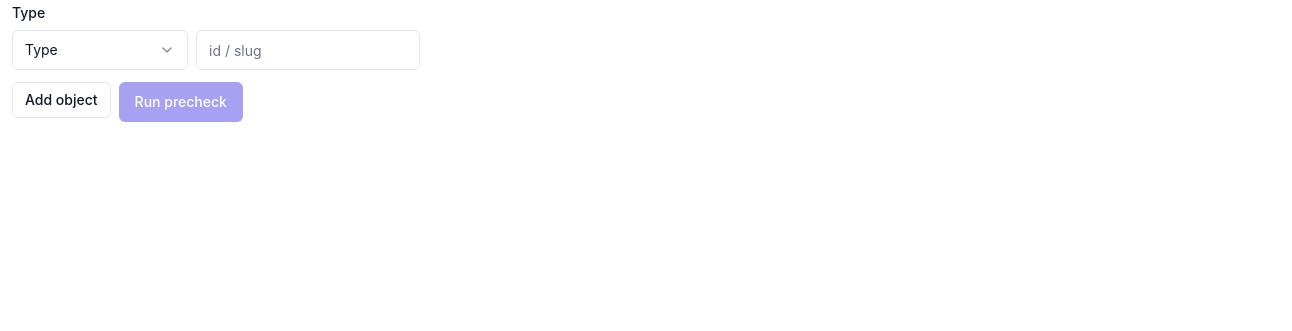
Test: PromotionPrecheckPanel › sends the selected objects and renders the risk summary
Click the dropdown named "Promotion object 1 type" at (100, 50), box [12,30,188,70]
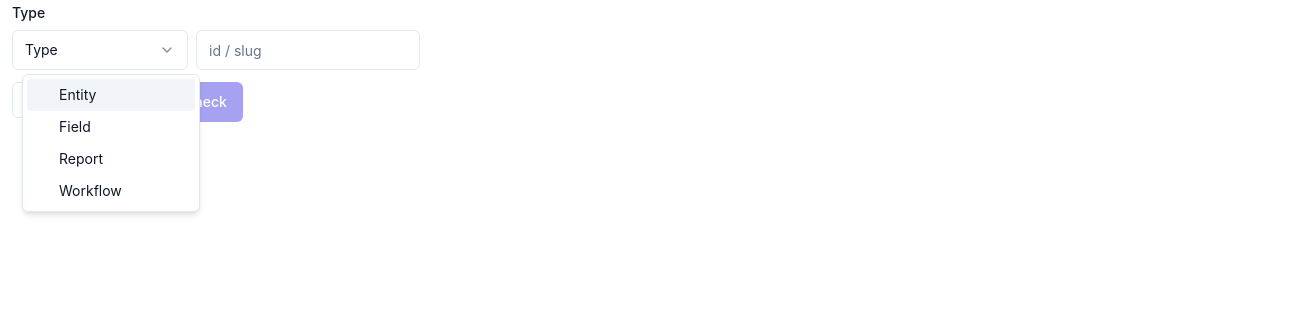
Click the option "Entity" at (111, 95), box [27,79,195,111]
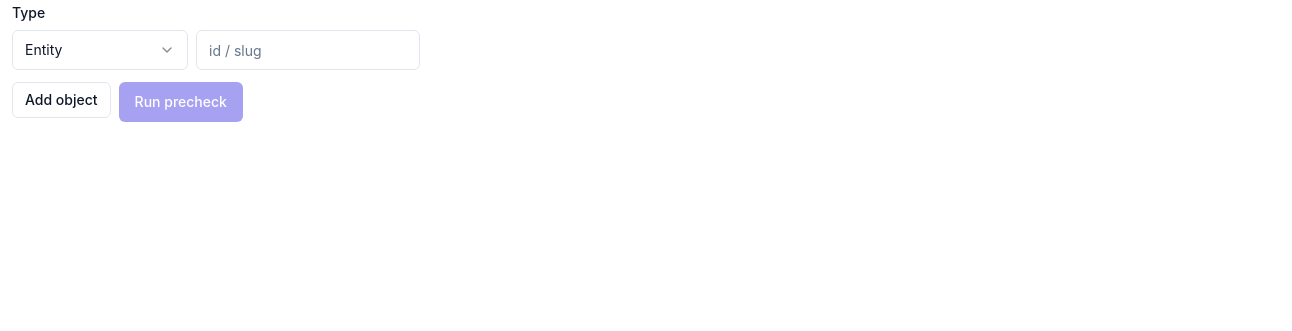
Type "lead" into the field named "Promotion object 1 id" at (308, 50), box [196,30,420,70]
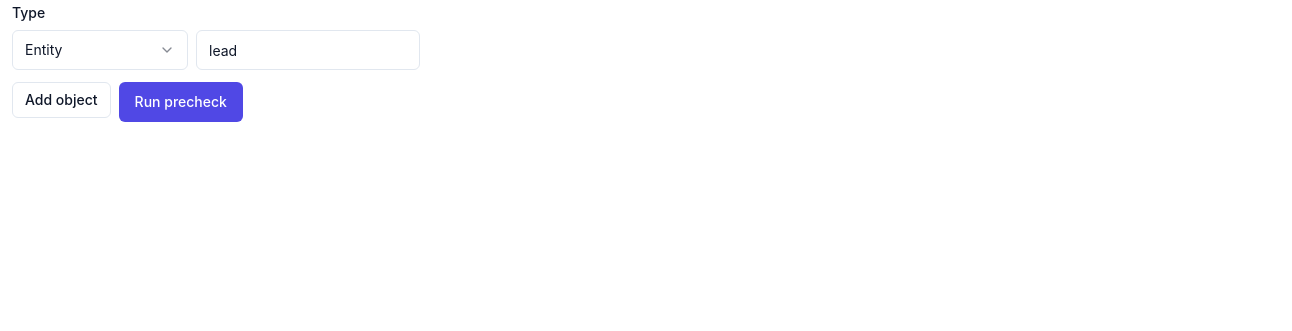
Click the button "Run precheck" at (181, 102), box [119,82,243,122]
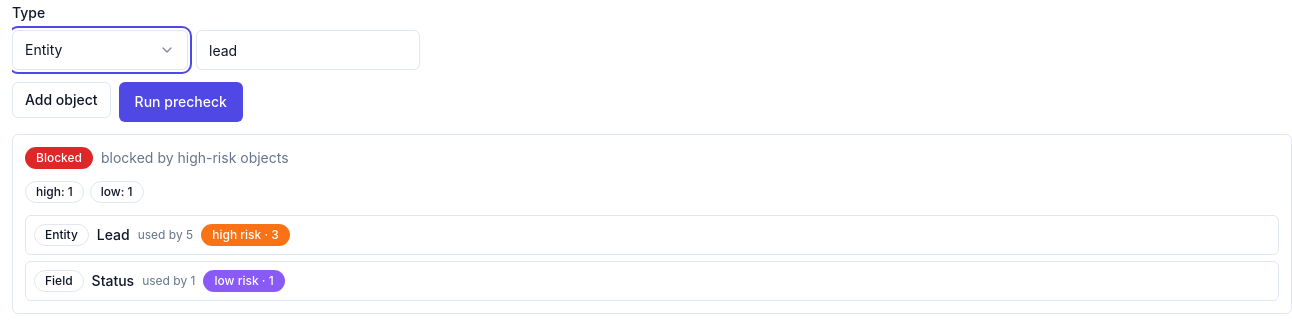
Result: the text "Blocked" is shown at [25,147,93,169]
Result: the element named "Risk summary" shows "high: 1" at [25,181,144,203]
Result: the element named "Risk summary" shows "low: 1" at [25,181,144,203]
